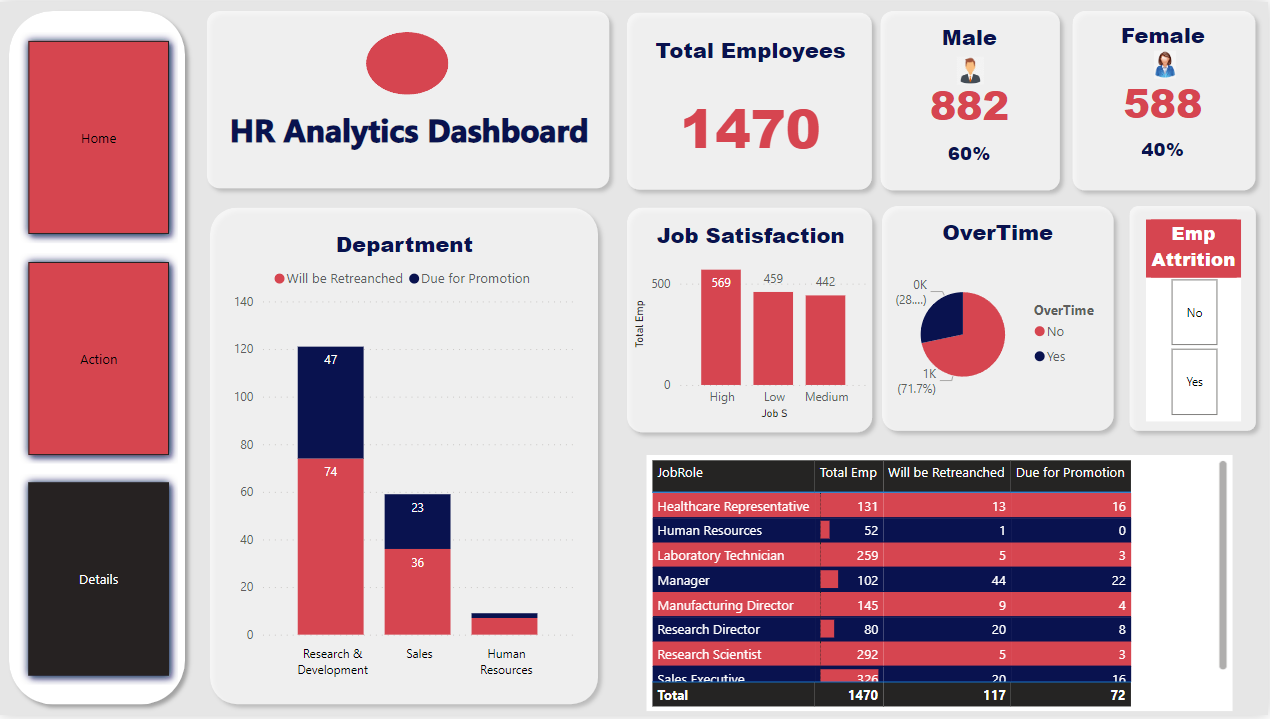

What the dashboard file says about the page in this screenshot:
{"tool":"powerbi","page":{"name":"Home ","canvas":[1280,720],"ordinal":0},"visuals":[{"type":"shape","box":[0,0,195.5,718.4],"z":0},{"type":"shape","box":[195.7,0,424.1,197.5],"z":1000},{"type":"shape","box":[614.3,0,266.4,197.5],"z":2000},{"type":"shape","box":[1074.6,0,203,199.3],"z":3000},{"type":"shape","box":[880.7,0,199.3,199.3],"z":4000},{"type":"shape","box":[195.5,270.2,271.8,448.2],"z":5000},{"type":"shape","box":[478.1,198.4,376.1,313.7],"z":6000},{"type":"shape","box":[480,500.8,374.2,219.2],"z":7000},{"type":"shape","box":[860.8,378.7,418.6,338.9],"z":8000},{"type":"shape","box":[861.5,198.7,219.3,181.2],"z":9000},{"type":"shape","box":[1080.8,198.7,198.7,181.2],"z":10000},{"type":"textbox","box":[212,101.5,402.3,67.1],"z":11000},{"type":"shape","box":[369.7,30.8,83.4,63.4],"z":12000},{"type":"cardVisual","title":"Total Employees","fields":{"Data":["All Measures.Total Emp"]},"box":[634.3,34.4,219.3,130.5],"z":13000},{"type":"cardVisual","title":"Male","fields":{"Data":["All Measures.Male"]},"box":[907.9,19.9,143.2,114.2],"z":14000},{"type":"cardVisual","title":"Male","fields":{"Data":["All Measures.% Male"]},"box":[907.9,114.2,143.2,61.6],"z":15000},{"type":"cardVisual","title":"Female","fields":{"Data":["All Measures.Female"]},"box":[1103.6,18.1,143.2,114.2],"z":16000},{"type":"cardVisual","title":"Male","fields":{"Data":["All Measures.% Female"]},"box":[1103.6,108.7,143.2,59.8],"z":17000},{"type":"image","box":[955,50.7,50.7,38.1],"z":18000},{"type":"image","box":[1154.4,43.5,45.3,38.1],"z":19000},{"type":"cardVisual","title":"Due for Promotion","fields":{"Data":["All Measures.Due for Promotion"]},"box":[205,294,249.5,130.3],"z":20000},{"type":"cardVisual","title":"Due for Promotion","fields":{"Data":["All Measures.% Due for Promotion"]},"box":[206.6,379.9,246.4,98.5],"z":21000},{"type":"cardVisual","title":"Not Due","fields":{"Data":["All Measures.Not Due"]},"box":[206.6,500.7,249.5,130.3],"z":22000},{"type":"cardVisual","title":"Due for Promotion","fields":{"Data":["All Measures.% Not Due"]},"box":[211.4,604,244.8,98.5],"z":23000},{"type":"shape","box":[205,472.1,251.1,12.7],"z":24000},{"type":"barChart","title":"Service Year","fields":{"Category":["HR Analytics Data.Service year"],"Y":["All Measures.Total Emp"]},"box":[493.2,219.2,343.9,270.2],"z":25000},{"type":"columnChart","title":"Job Levels View","fields":{"Category":["HR Analytics Data.Job Levels"],"Y":["All Measures.Total Emp"]},"box":[493.2,512.1,342,200.3],"z":26000},{"type":"cardVisual","title":"Active workers","fields":{"Data":["All Measures.On Services"]},"box":[871.3,214.4,209.2,114.9],"z":27000},{"type":"cardVisual","title":"Male","fields":{"Data":["All Measures.% On Services"]},"box":[915.5,300.4,143,60.4],"z":28000},{"type":"cardVisual","title":"Next Retreanch","fields":{"Data":["All Measures.Will be Retreanched"]},"box":[1087.2,216.2,176.4,114.4],"z":29000},{"type":"cardVisual","title":"Male","fields":{"Data":["All Measures.% Will be Retreanched"]},"box":[1109.4,300.4,143,60.4],"z":30000},{"type":"donutChart","title":"Distance from office","fields":{"Category":["HR Analytics Data.Distance Status"],"Y":["All Measures.Total Emp"]},"box":[888.5,398.9,364,284.5],"z":31000},{"type":"pageNavigator","box":[19.1,20.7,160.5,662.8],"z":32000}]}

Visuals, with their boxes in screenshot pixels (x1, y1, x2, y2), scaled from the page's 1280x720 canvas onto the 1270x719 screenshot:
shape: locate(0, 0, 194, 717)
shape: locate(194, 0, 615, 197)
shape: locate(610, 0, 874, 197)
shape: locate(1066, 0, 1268, 199)
shape: locate(874, 0, 1072, 199)
shape: locate(194, 270, 464, 717)
shape: locate(474, 198, 848, 511)
shape: locate(476, 500, 848, 718)
shape: locate(854, 378, 1269, 717)
shape: locate(855, 198, 1072, 379)
shape: locate(1072, 198, 1269, 379)
textbox: locate(210, 101, 610, 168)
shape: locate(367, 31, 450, 94)
"Total Employees" cardVisual: locate(629, 34, 847, 165)
"Male" cardVisual: locate(901, 20, 1043, 134)
"Male" cardVisual: locate(901, 114, 1043, 176)
"Female" cardVisual: locate(1095, 18, 1237, 132)
"Male" cardVisual: locate(1095, 109, 1237, 168)
image: locate(948, 51, 998, 89)
image: locate(1145, 43, 1190, 81)
"Due for Promotion" cardVisual: locate(203, 294, 451, 424)
"Due for Promotion" cardVisual: locate(205, 379, 449, 478)
"Not Due" cardVisual: locate(205, 500, 453, 630)
"Due for Promotion" cardVisual: locate(210, 603, 453, 702)
shape: locate(203, 471, 453, 484)
"Service Year" barChart: locate(489, 219, 831, 489)
"Job Levels View" columnChart: locate(489, 511, 829, 711)
"Active workers" cardVisual: locate(864, 214, 1072, 329)
"Male" cardVisual: locate(908, 300, 1050, 360)
"Next Retreanch" cardVisual: locate(1079, 216, 1254, 330)
"Male" cardVisual: locate(1101, 300, 1243, 360)
"Distance from office" donutChart: locate(882, 398, 1243, 682)
pageNavigator: locate(19, 21, 178, 683)
